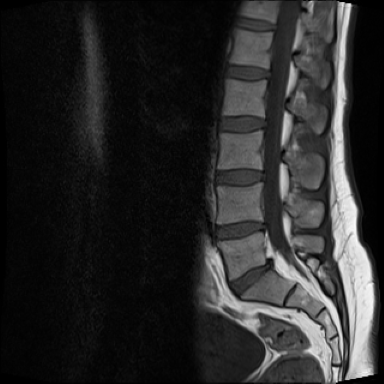Lumbar Disc Bulge (LDB): (224, 255, 277, 301), (213, 217, 271, 244)
Normal IVD: (211, 164, 268, 187), (214, 112, 270, 132), (224, 62, 275, 82), (229, 15, 281, 32)
Spinal Stenosis (SS): (264, 253, 278, 273), (261, 218, 271, 234)
